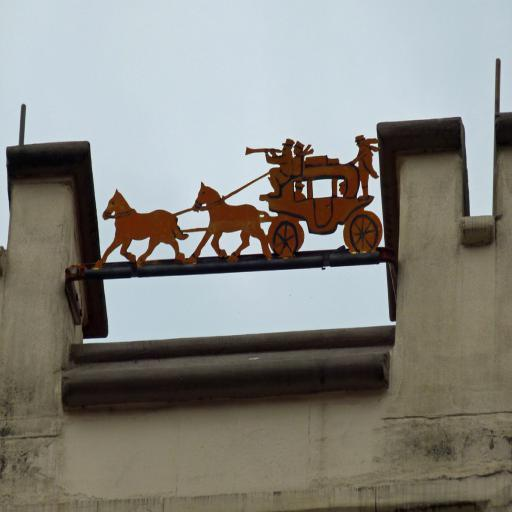horse: (92, 190, 190, 270), (186, 182, 273, 262)
